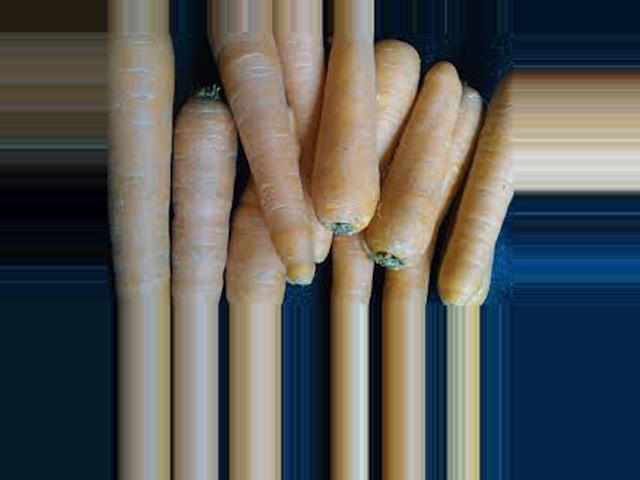carrot: (112, 40, 172, 307)
